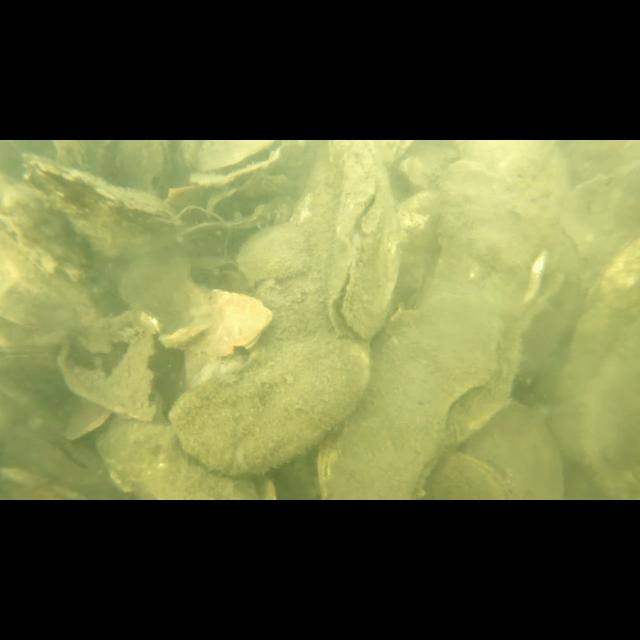Oyster-Closed: (313, 296, 503, 499), (424, 198, 562, 428), (169, 338, 373, 474), (555, 230, 640, 499), (21, 152, 180, 258), (105, 410, 278, 500), (456, 400, 566, 500), (236, 224, 328, 340), (0, 179, 92, 279), (0, 235, 90, 331), (160, 282, 272, 356), (421, 450, 505, 500), (0, 326, 58, 366)
Oyster-Open: (327, 140, 399, 340), (204, 170, 292, 230), (191, 140, 305, 184)
